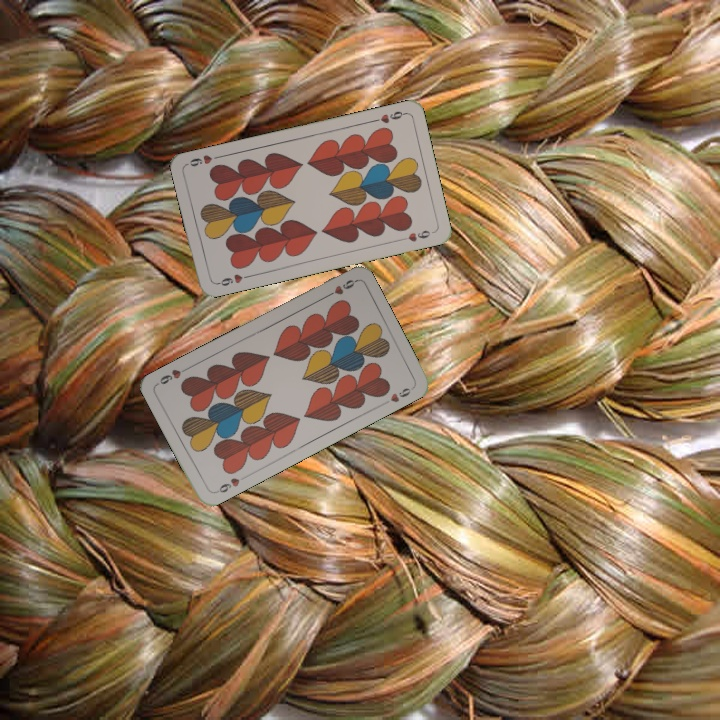H9: (321, 275, 358, 301), (210, 472, 248, 496), (368, 107, 408, 126), (212, 270, 252, 289)
